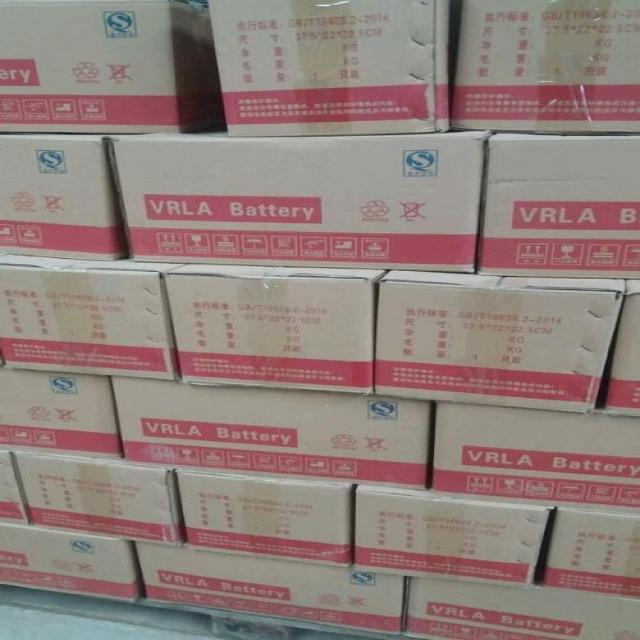box: (107, 127, 498, 272), (109, 378, 435, 491), (372, 272, 623, 412), (206, 1, 452, 136), (0, 1, 223, 135), (161, 263, 385, 394), (129, 541, 406, 635), (0, 254, 195, 382), (453, 1, 639, 135), (478, 131, 639, 278), (427, 401, 639, 512), (352, 483, 554, 586), (176, 467, 352, 567), (9, 450, 182, 545), (0, 134, 128, 261), (400, 575, 639, 639), (0, 369, 124, 460), (0, 525, 140, 603), (532, 505, 639, 600), (600, 279, 639, 414), (0, 450, 29, 529)
